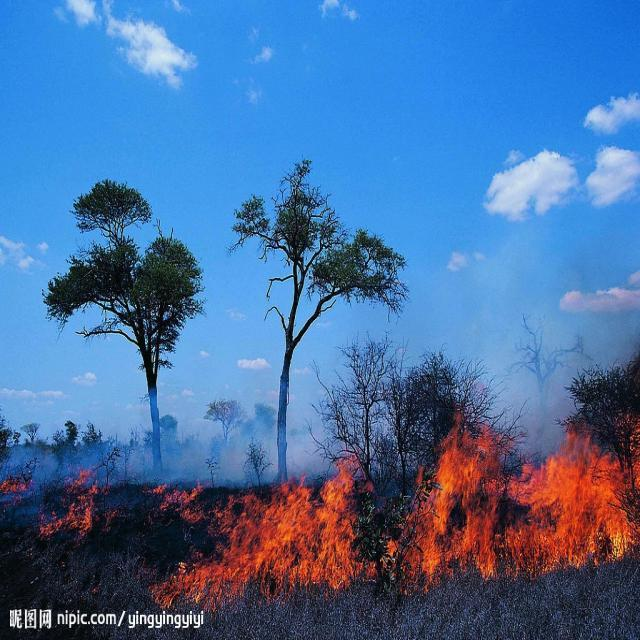Fire: (146, 402, 640, 618), (40, 463, 118, 539), (0, 470, 32, 496)
Smoke: (0, 312, 640, 483)
